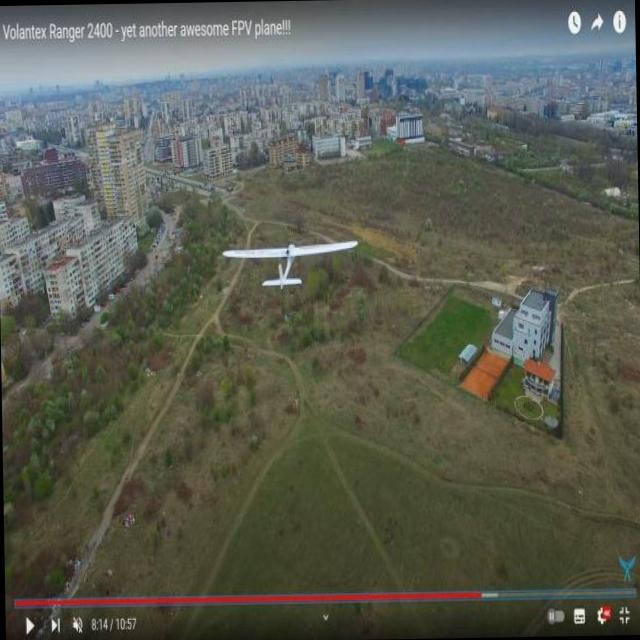UAV: (226, 222, 349, 315)
